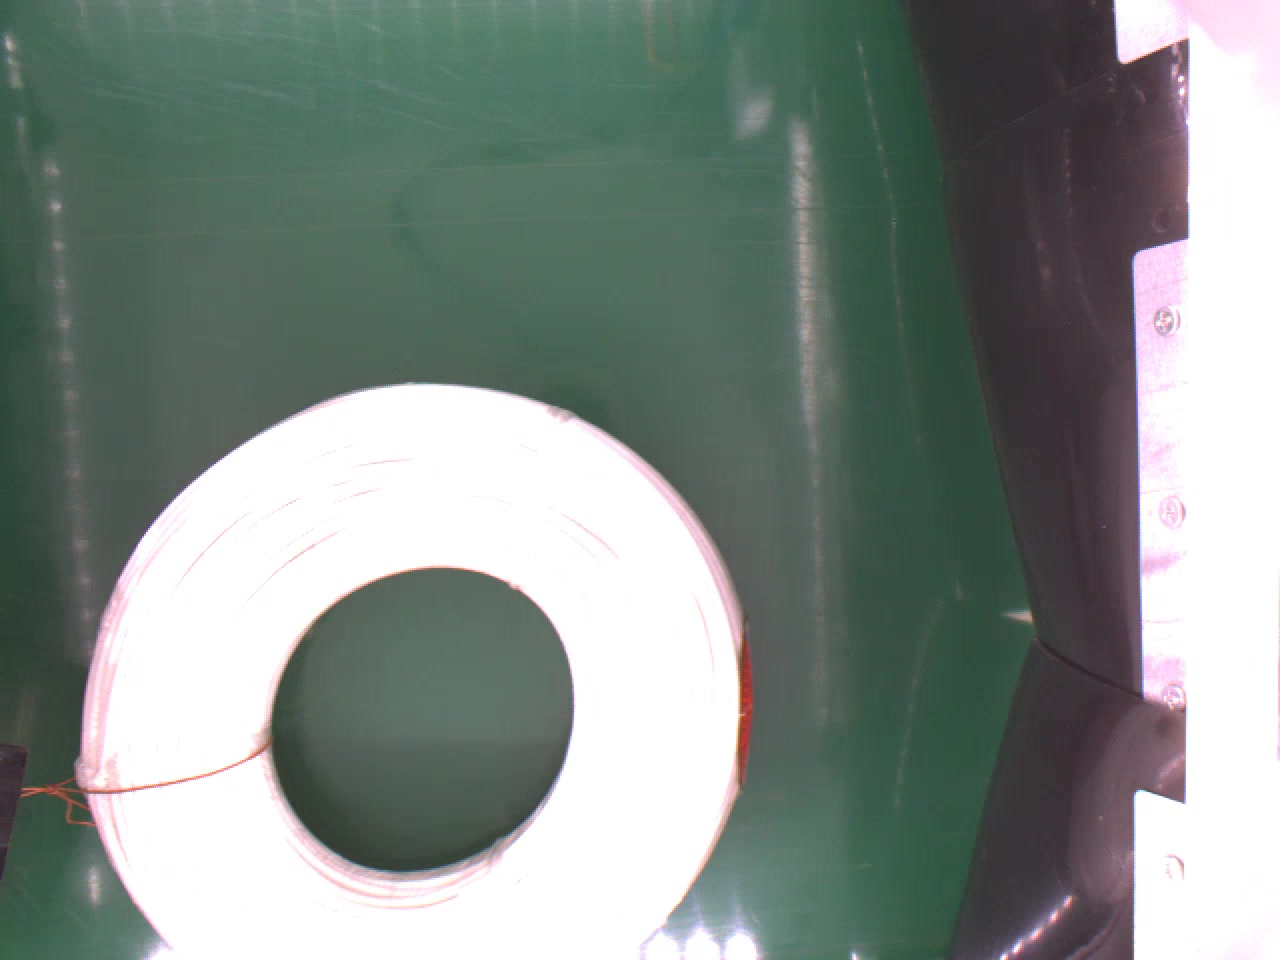white: (81, 380, 757, 960)
